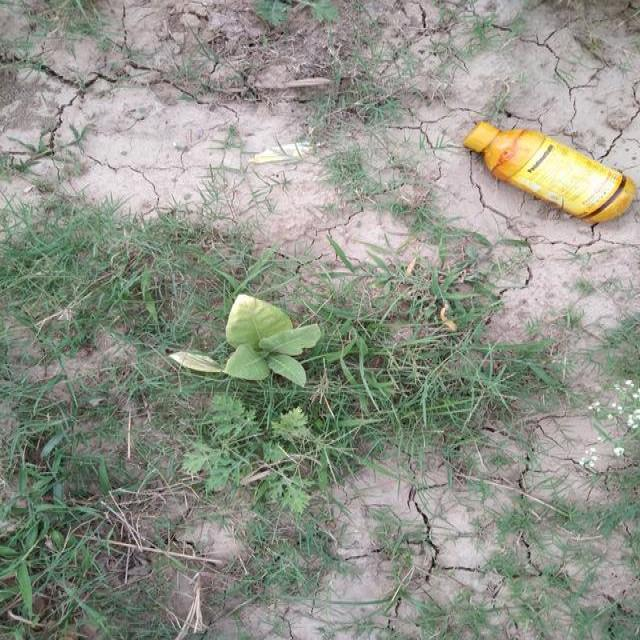crop: (223, 281, 331, 405)
